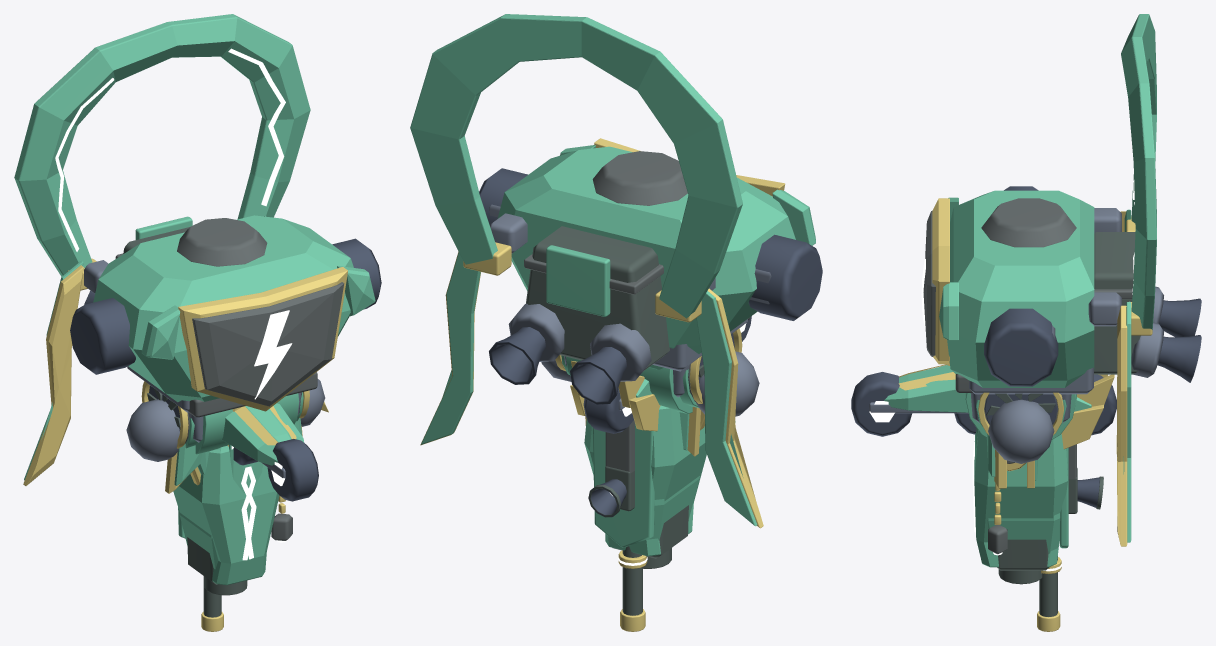
File: fujin.glb
3 renders of one model, left to right at view 1: azimuth 30°, elevation 25°; view 2: azimuth 150°, elevation 25°; view 3: azimuth 270°, elevation 25°, orthographic. The views are drawn at different scales.
Visible parts, largest first — view 1: chest/P, chest/S, chest/T, kneeL/P, chest/D, hips/K, chest/G, ankleL/D, ankleL/P, hipL/F, shR/P, hips/S (+7 smaller); view 2: chest/P, chest/D, chest/F, chest/K, hipL/P, chest/S, chest/T, kneeL/P, hips/K, shR/P, ankleL/D, hipL/F (+7 smaller); view 3: chest/P, chest/D, kneeL/P, chest/T, chest/S, chest/K, chest/F, hips/K, ankleL/D, ankleL/P, hipL/P, hipL/F (+10 smaller).
Part boxes in pixels (x1,y1,x2,y2): chest/P: (14,14,375,480); chest/S: (115,218,344,406); chest/T: (23,258,347,485); kneeL/P: (173,448,279,585); chest/D: (70,238,381,374); hips/K: (126,379,325,461); chest/G: (55,48,292,399); ankleL/D: (233,439,318,501); ankleL/P: (221,403,304,465); hipL/F: (187,537,247,595); shR/P: (185,409,232,454); hips/S: (188,372,317,417); chest/P: (410,14,815,526); chest/D: (479,168,822,404); chest/F: (526,226,669,370); chest/K: (489,204,771,381); hipL/P: (592,405,699,547); chest/S: (524,151,687,294); chest/T: (420,138,785,528); kneeL/P: (584,405,706,556); hips/K: (541,351,759,416); shR/P: (640,367,698,413); ankleL/D: (583,316,751,433); hipL/F: (612,505,688,568); chest/P: (939,14,1156,542); chest/D: (984,186,1201,386); kneeL/P: (974,430,1067,567); chest/T: (932,198,1152,546); chest/S: (923,198,1132,356); chest/K: (969,208,1163,394); chest/F: (1094,232,1140,374); hips/K: (970,393,1071,463); ankleL/D: (851,372,1116,436); ankleL/P: (884,365,1091,412); hipL/P: (986,434,1068,553); hipL/F: (997,539,1049,584).
Size of the model in its own units: 3.69 by 6.68 by 3.59.
